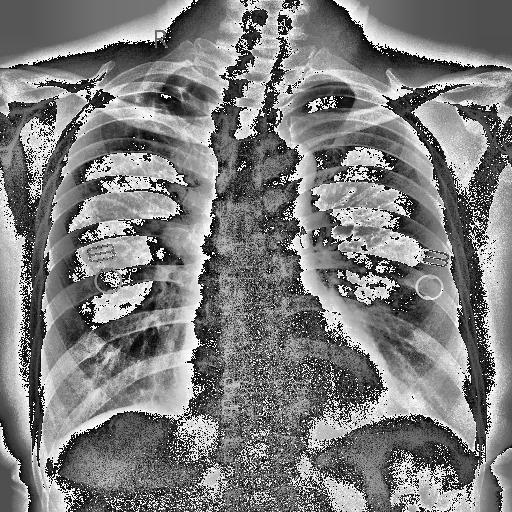0- Aortic enlargement: (252, 138, 318, 190)
13- Pulmonary fibrosis: (104, 80, 196, 162), (108, 82, 196, 166), (118, 78, 190, 148), (71, 155, 89, 195)
